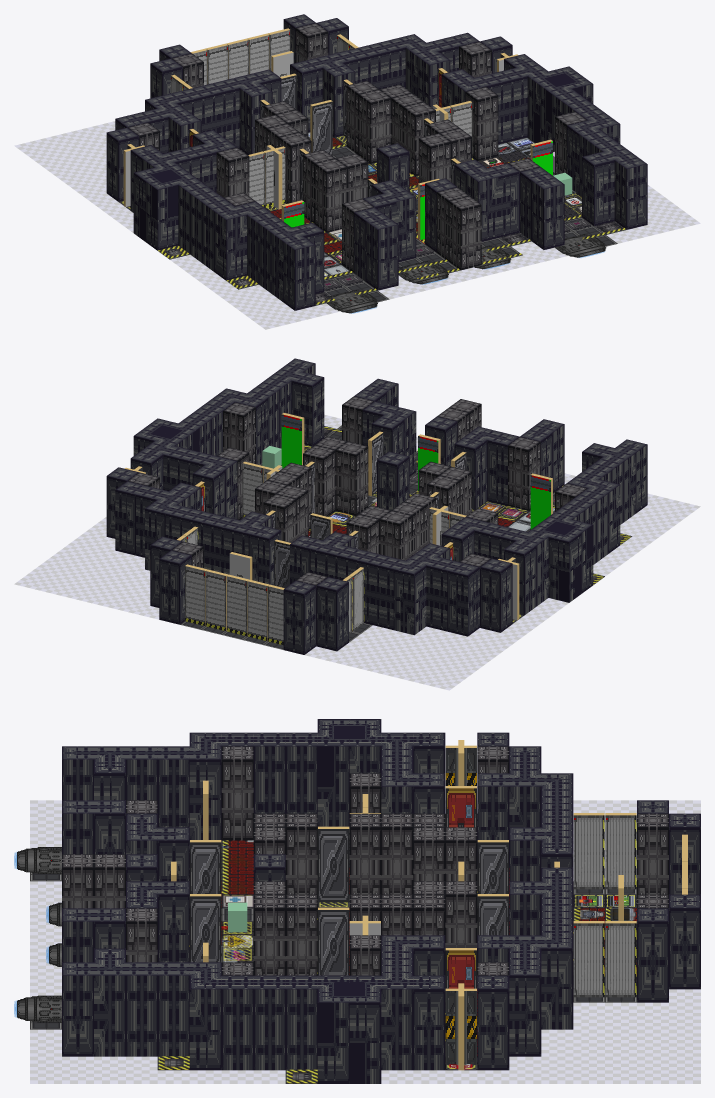
Rendered from infiltrator_advanced.performance.glb.
3 views of the same model, one above another, from view 1: azimuth 30°, elevation 25°; view 2: azimuth 150°, elevation 25°; view 3: azimuth 270°, elevation 25° (orthographic). The views are drawn at different scales.
Parts seen in each view (by area): view 1: Wall tiles, Floor tiles, Doors - merged, Machines - merged, Objects - merged, Plating tiles, Tables - merged; view 2: Wall tiles, Floor tiles, Doors - merged, Plating tiles, Objects - merged; view 3: Wall tiles, Doors - merged, Floor tiles, Machines - merged, Objects - merged, Plating tiles, Proxy Geometry - merged.
Boxes of the visible parts, x1,y1,x2,y2 form: Wall tiles: (106, 14, 647, 310); Floor tiles: (15, 122, 699, 329); Doors - merged: (123, 28, 552, 239); Machines - merged: (164, 134, 622, 313); Objects - merged: (121, 136, 626, 305); Plating tiles: (158, 146, 626, 305); Tables - merged: (308, 132, 554, 277); Wall tiles: (106, 358, 647, 654); Floor tiles: (15, 415, 699, 689); Doors - merged: (125, 413, 552, 645); Plating tiles: (180, 425, 631, 649); Objects - merged: (304, 426, 631, 621); Wall tiles: (62, 719, 700, 1083); Doors - merged: (171, 740, 687, 1070); Floor tiles: (30, 801, 700, 1083); Machines - merged: (14, 842, 635, 1080); Objects - merged: (157, 827, 635, 1083); Plating tiles: (30, 872, 636, 1083); Proxy Geometry - merged: (228, 902, 247, 932).
Bounding box in the file's own units: 21 × 2.86 × 21.5.
Materials: 84 (81 with a texture image).
